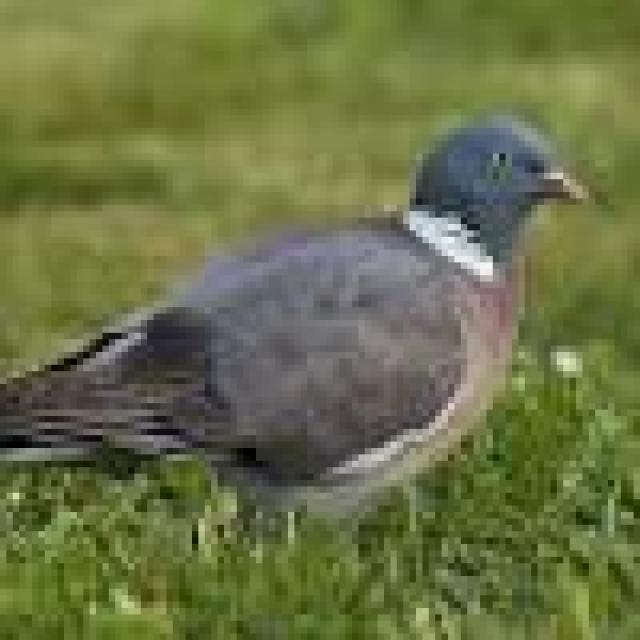pigeon: (0, 92, 594, 556)
